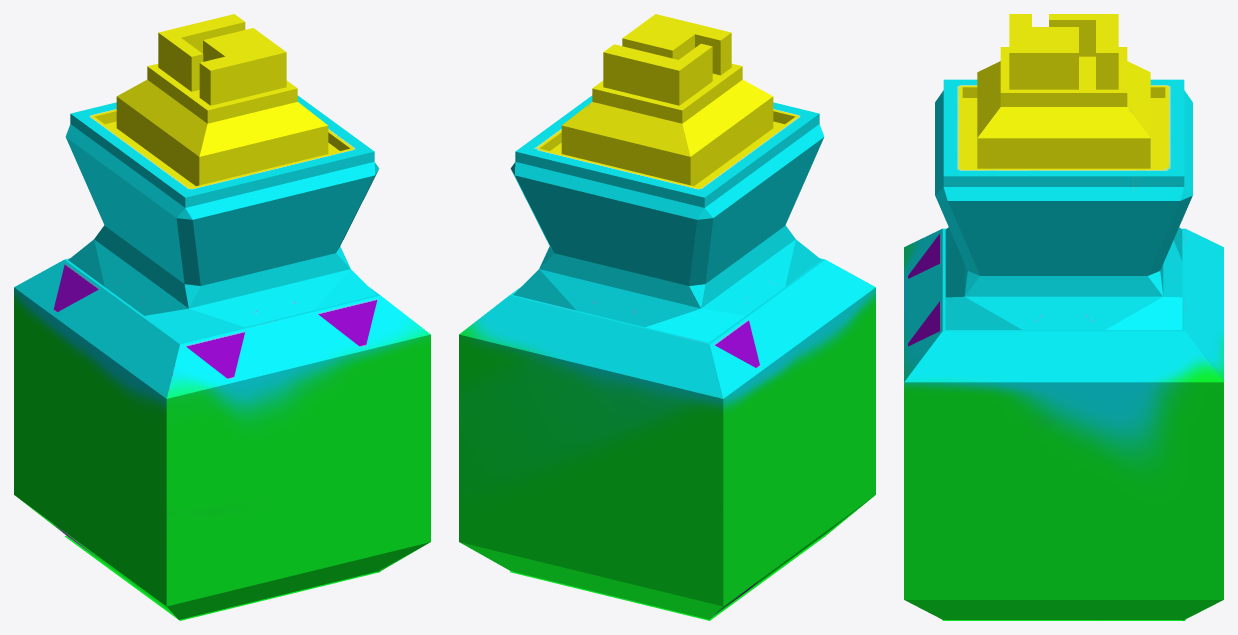
File: BotellaDeAcido.fbx
The picture shows the model from 3 angles, left to right: view 1: azimuth 30°, elevation 25°; view 2: azimuth 150°, elevation 25°; view 3: azimuth 270°, elevation 25°; orthographic projection. The views are drawn at different scales.
Visible parts, largest first — view 1: Cube; view 2: Cube; view 3: Cube.
Boxes of the visible parts, x1=… form: Cube: x1=14, y1=14, x2=430, y2=620; Cube: x1=459, y1=14, x2=875, y2=620; Cube: x1=904, y1=14, x2=1223, y2=620.
Bounding box in the file's own units: 200 × 370 × 200.
Materials: 1 (1 with a texture image).
